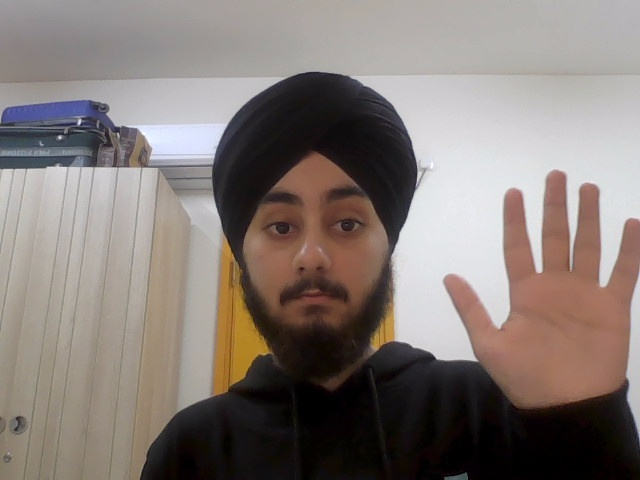Hello: (441, 167, 640, 407)
